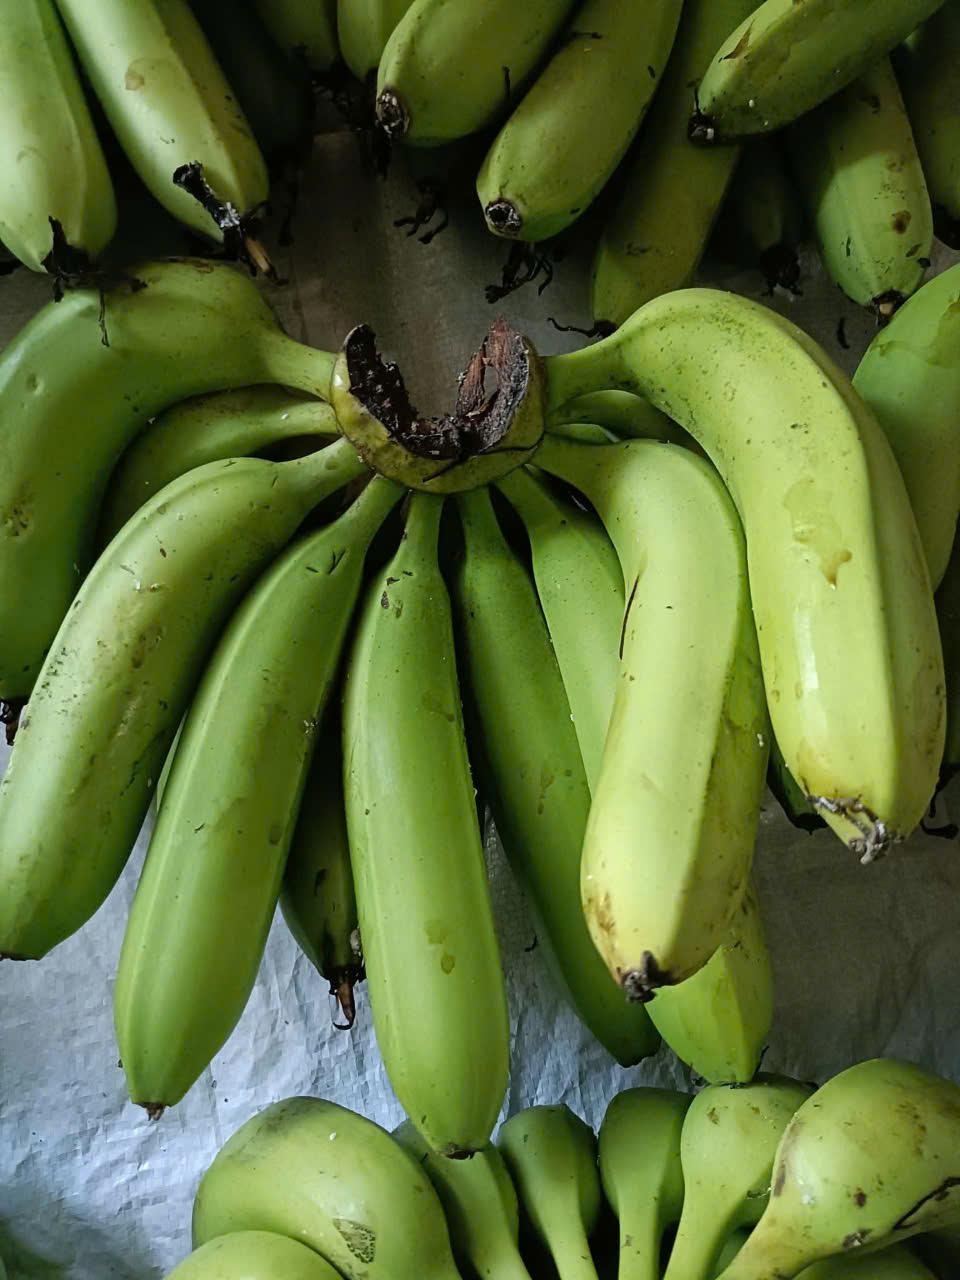banana: (7, 204, 493, 1114), (467, 280, 960, 1055), (370, 0, 960, 285)
